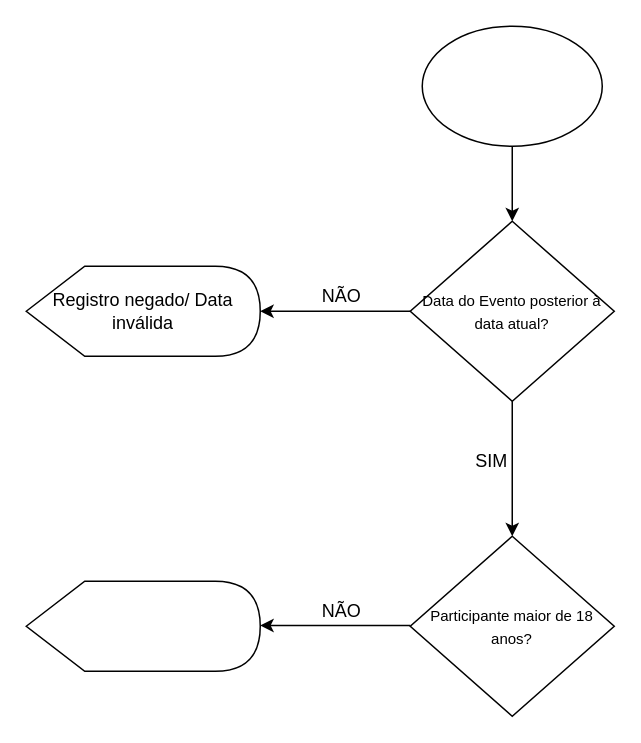
Some shapes in this 641 by 743 pixel diagram are drawn without their labels. The centre of each missing label's shape, as x and y in pixels:
"INICIO" belongs at point (511, 85).
"Registro negado/ Participante menor de 18 anos" belongs at point (142, 625).
